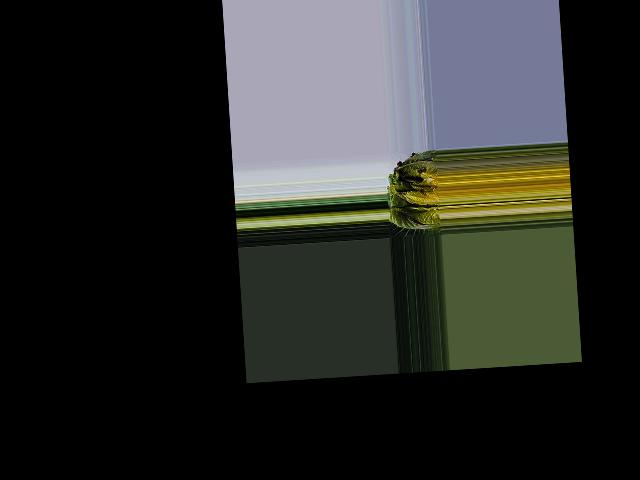lettuce: (386, 152, 442, 238)
